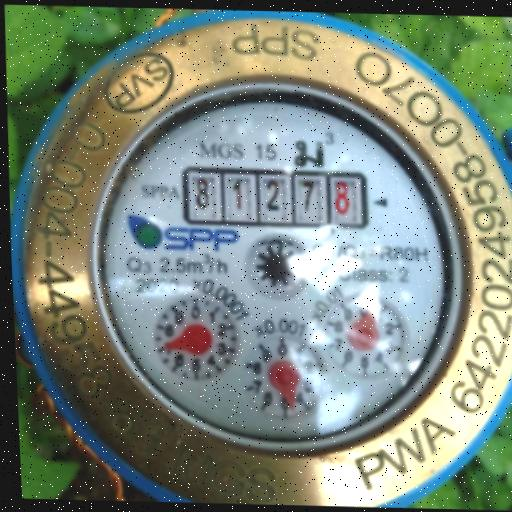1: (226, 179, 249, 220)
2: (262, 180, 285, 222)
7: (299, 182, 321, 222)
8: (192, 178, 216, 219), (334, 182, 358, 222)
border_water_meter_number: (181, 167, 370, 229)
